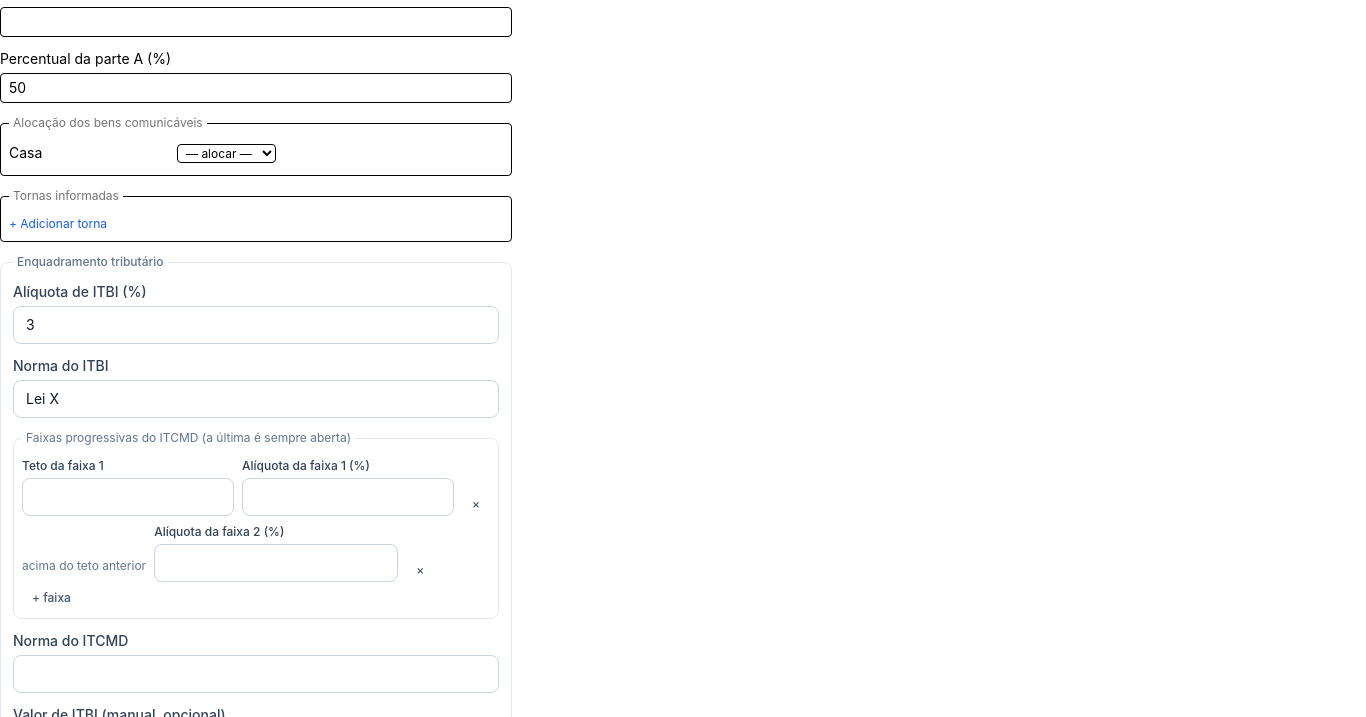
Test: AbaCenarios › rejeita alíquota de ITBI em branco com a norma preenchida, sem gravar
Clear the number field labelled "Alíquota de ITBI (%)": (256, 325) 13,306 -> 499,344
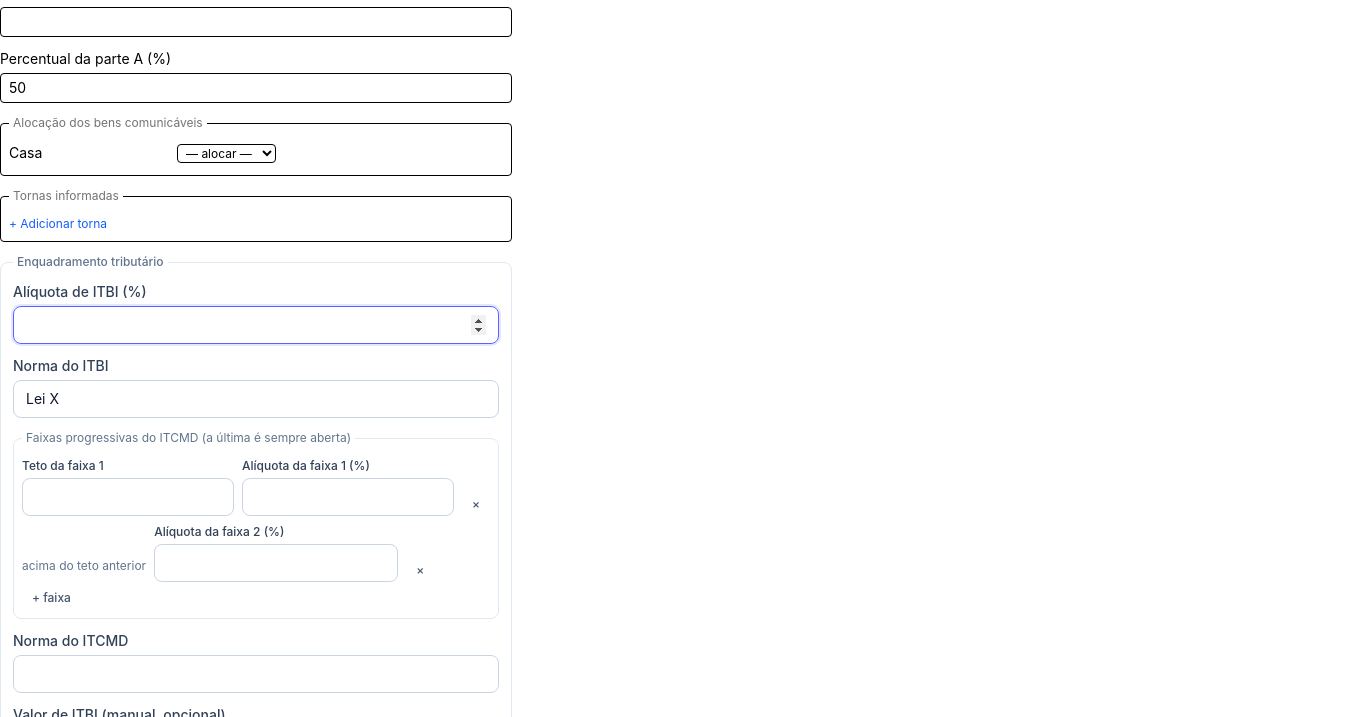
In the field labelled "Rótulo": (256, 22) 0,7 -> 512,37, type "Proposta ITBI inválida"
(page scrolled)
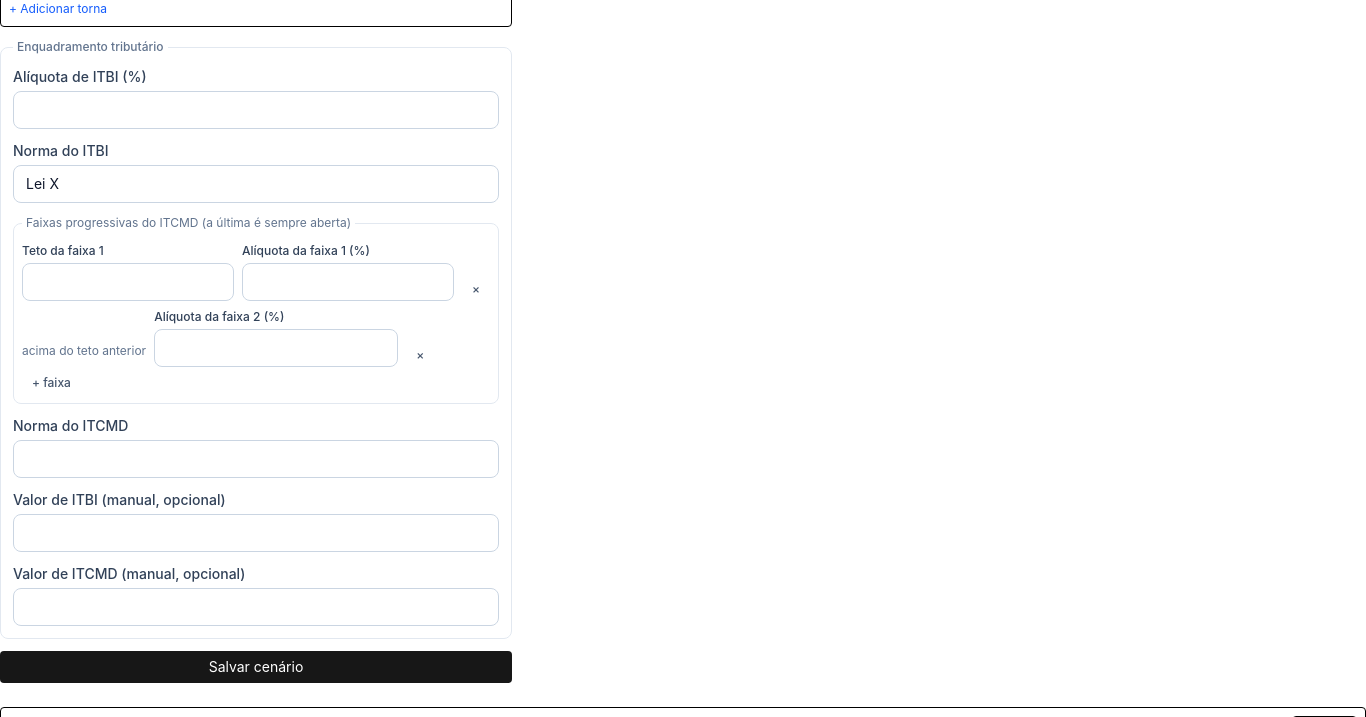
Click the button "Salvar cenário": click(256, 667) 0,651 -> 512,683
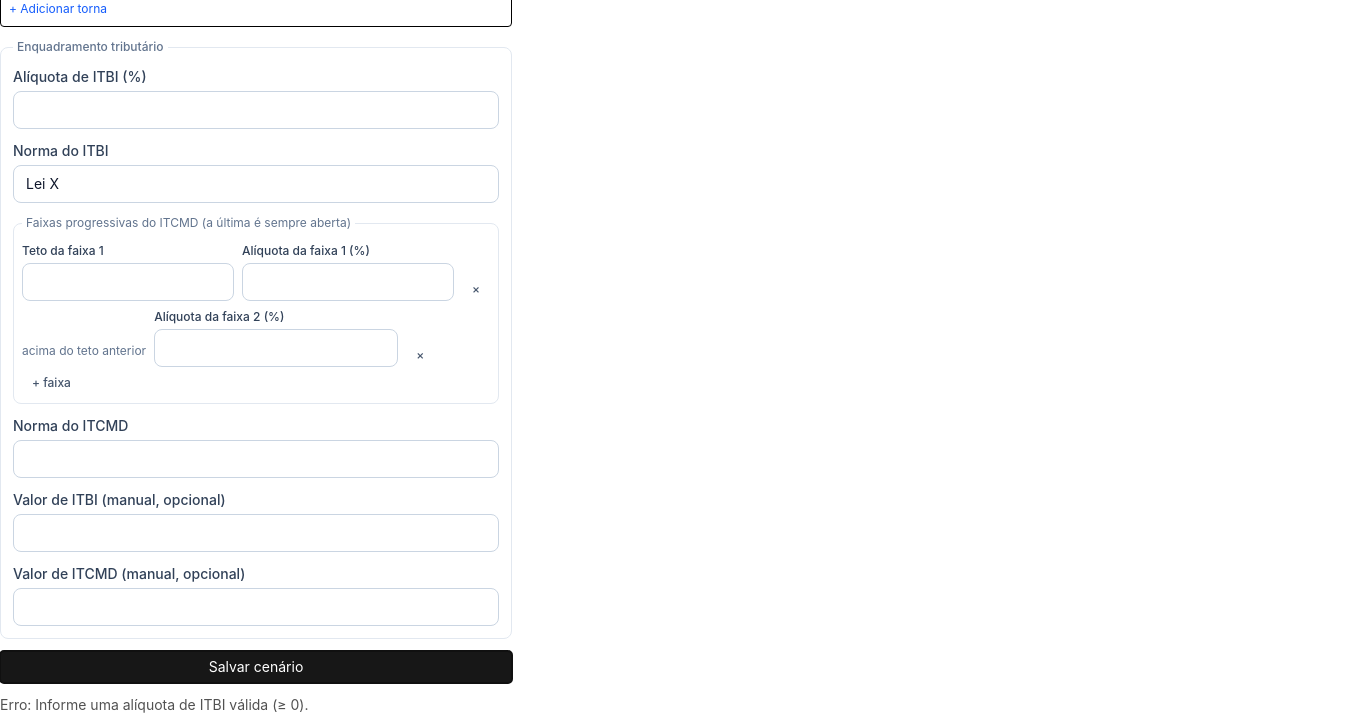
Expected: the message reads "Erro: Informe uma alíquota de ITBI válida (≥ 0).", 0,696 -> 308,713
